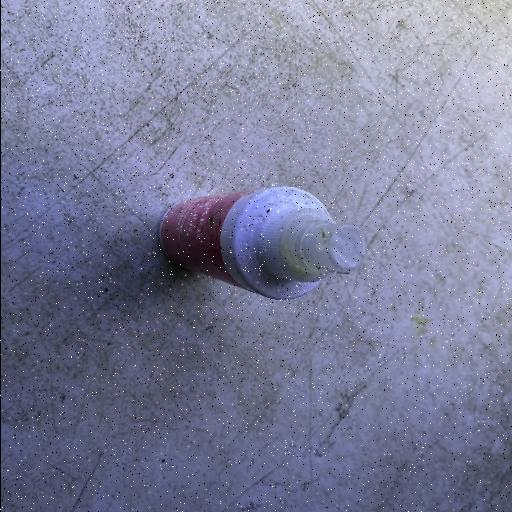Plastic: (156, 183, 368, 302)
